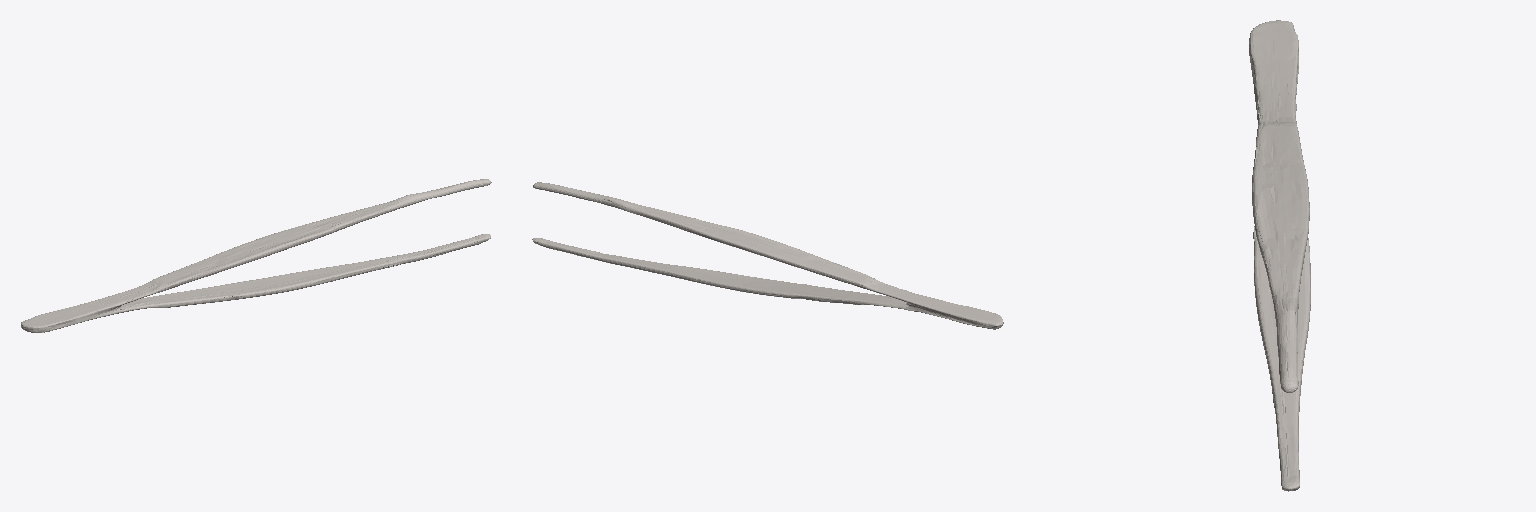
URDF robot description (Tooling_27):
<?xml version="1.0" encoding="utf-8"?>
<!-- This URDF was automatically created by SolidWorks to URDF Exporter! Originally created by Stephen Brawner (brawner@gmail.com)
     Commit Version: 1.6.0-4-g7f85cfe  Build Version: 1.6.7995.38578
     For more information, please see http://wiki.ros.org/sw_urdf_exporter -->
<robot
  name="Tooling_27">
  <link
    name="base_link">
    <inertial>
      <origin
        xyz="1.5227E-05 7.2142E-05 -1.1287E-06"
        rpy="0 0 0" />
      <mass
        value="0.015735" />
      <inertia
        ixx="5.2079E-07"
        ixy="-7.5136E-08"
        ixz="3.1914E-07"
        iyy="1.8912E-05"
        iyz="-3.9406E-09"
        izz="1.9321E-05" />
    </inertial>
    <visual>
      <origin
        xyz="0 0 0"
        rpy="0 0 0" />
      <geometry>
        <mesh
          filename="../meshes/base_link.STL" />
      </geometry>
      <material
        name="">
        <color
          rgba="0.77647 0.75686 0.73725 1" />
      </material>
    </visual>
    <collision>
      <origin
        xyz="0 0 0"
        rpy="0 0 0" />
      <geometry>
        <mesh
          filename="../meshes/base_link.STL" />
      </geometry>
    </collision>
  </link>
</robot>

--- Facts derived from the render (not from the file) ---
The picture shows the robot from 3 angles, left to right: view 1: azimuth 30°, elevation 25°; view 2: azimuth 150°, elevation 25°; view 3: azimuth 270°, elevation 25°; orthographic projection.
Robot: Tooling_27 — 1 links, 0 joints (none); root link base_link; default pose: all joints at 0.
Visible links, largest first — view 1: base_link; view 2: base_link; view 3: base_link.
Boxes of the visible links, left/top/right/bottom form: base_link: left=21, top=179, right=491, bottom=332; base_link: left=532, top=182, right=1003, bottom=329; base_link: left=1249, top=20, right=1310, bottom=491.
Size in the robot's own frame: 0.1401 by 0.0088 by 0.0186 metres.
Meshes: 1 distinct files referenced, 1 mesh visuals loaded (1 binary STL).
